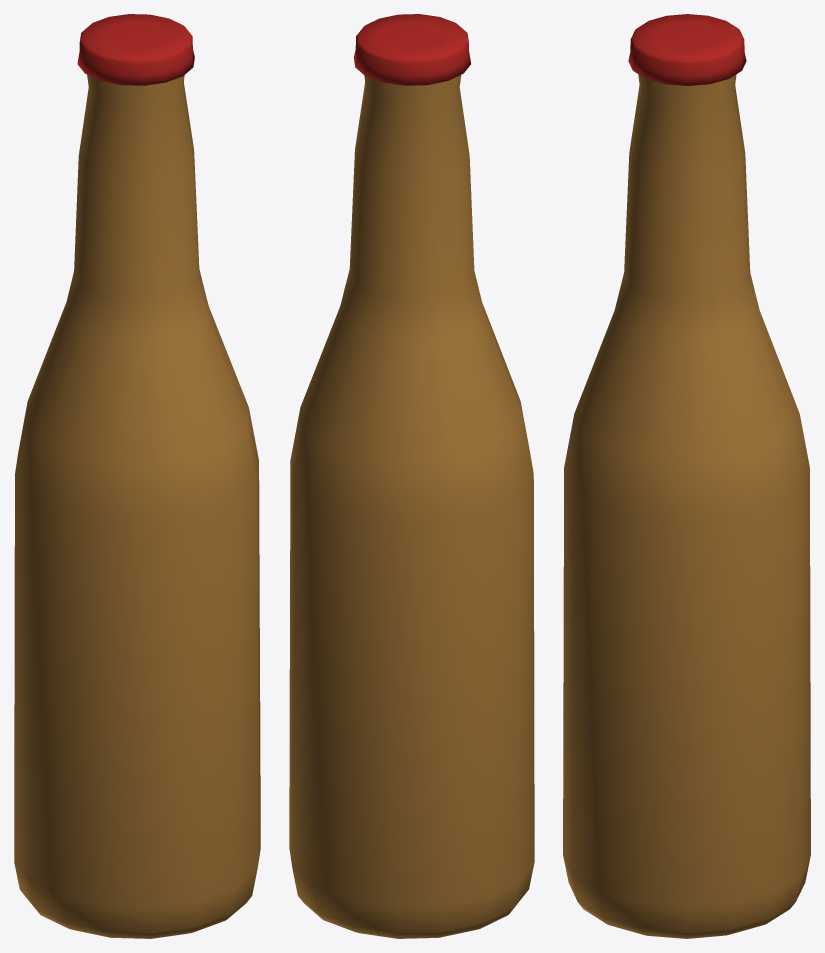
Rendered from bottle_longneck_lod2.glb.
3 views of the same model, side by side, from view 1: azimuth 30°, elevation 25°; view 2: azimuth 150°, elevation 25°; view 3: azimuth 270°, elevation 25° (orthographic).
Visible parts, largest first — view 1: Glass, Cap; view 2: Glass, Cap; view 3: Glass, Cap.
Boxes of the visible parts, x1=… form: Glass: x1=14, y1=74, x2=260, y2=938; Cap: x1=77, y1=14, x2=194, y2=85; Glass: x1=289, y1=75, x2=534, y2=938; Cap: x1=353, y1=14, x2=470, y2=85; Glass: x1=563, y1=74, x2=810, y2=938; Cap: x1=628, y1=14, x2=746, y2=85.
Size of the model in its own units: 0.0628 by 0.2403 by 0.0628.
